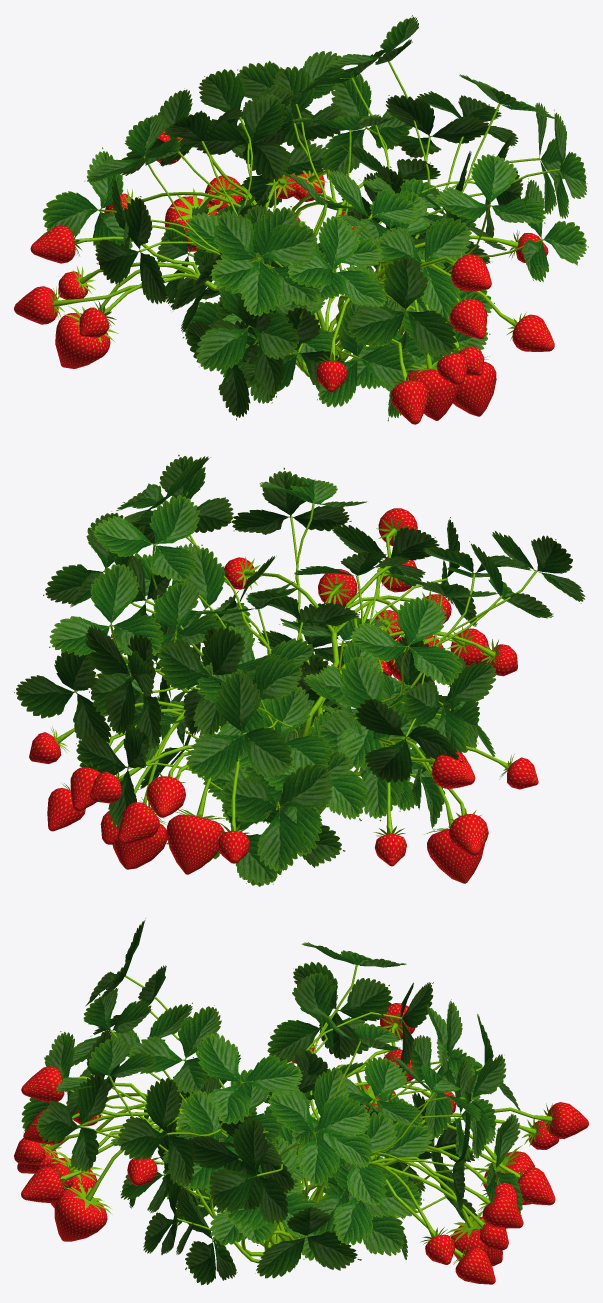
The model's file is strawberry_plant_08.obj.
3 views of the same model, one above another, from view 1: azimuth 30°, elevation 25°; view 2: azimuth 150°, elevation 25°; view 3: azimuth 270°, elevation 25° (orthographic). The views are drawn at different scales.
Visible parts, largest first — view 1: Strawberry_008; view 2: Strawberry_008; view 3: Strawberry_008.
Boxes of the visible parts, bbox=[...] form: Strawberry_008: bbox=[14, 15, 588, 424]; Strawberry_008: bbox=[14, 454, 585, 886]; Strawberry_008: bbox=[14, 918, 588, 1285].
Size of the model in its own units: 0.5054 by 0.3185 by 0.5318.
5 materials, 5 textured.
